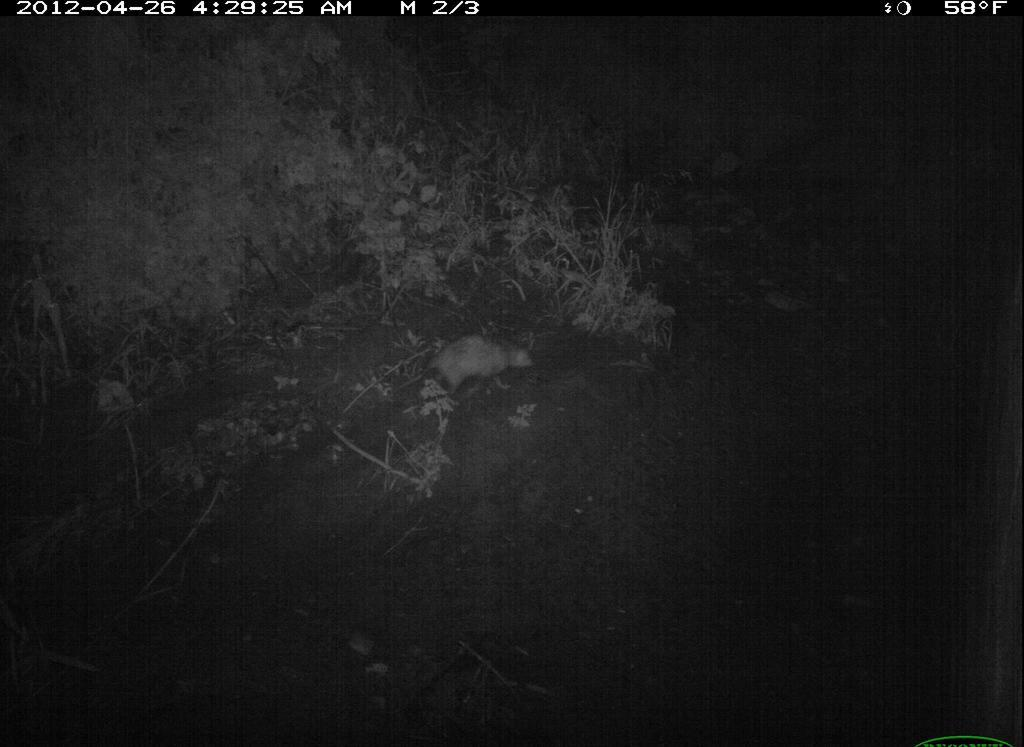opossum: (386, 327, 545, 408)
